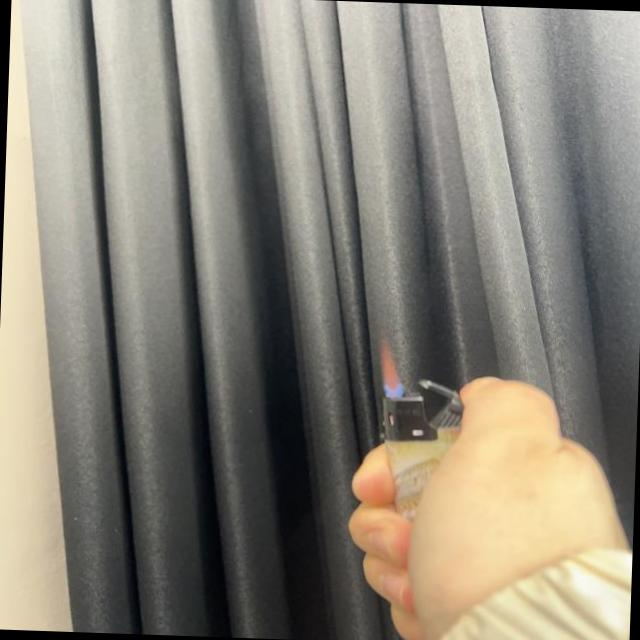Fire: (379, 338, 408, 398)
